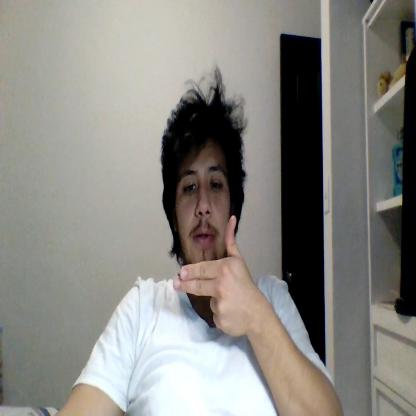H: (173, 214, 248, 336)
